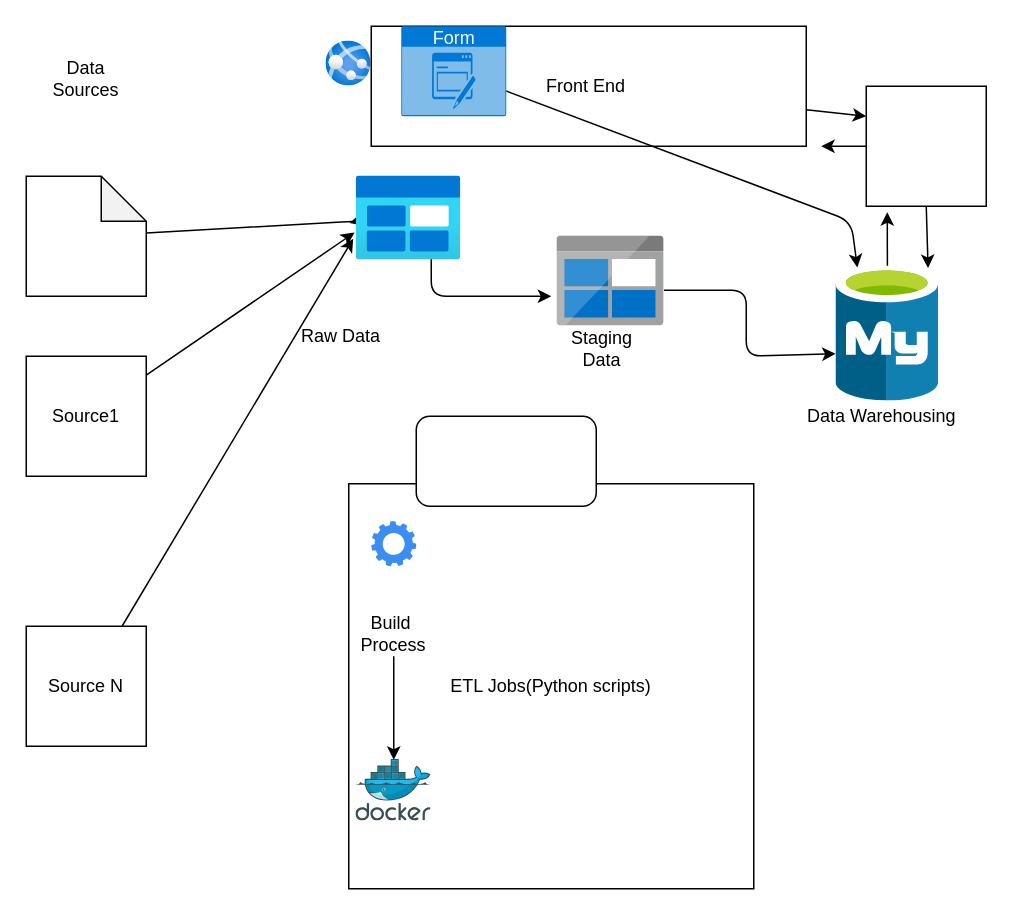
This 1013x915 diagram has some shape labels left out. Here are the shapes that lost their labels. From the top down, the centre of each, then its label:
At (x=925, y=145): "API Layer".
At (x=85, y=235): "csv".
At (x=505, y=460): "Prefect/ Airflow Dags".
